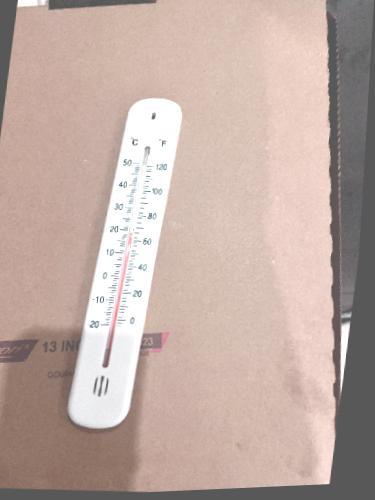thermo: (59, 86, 196, 439)
